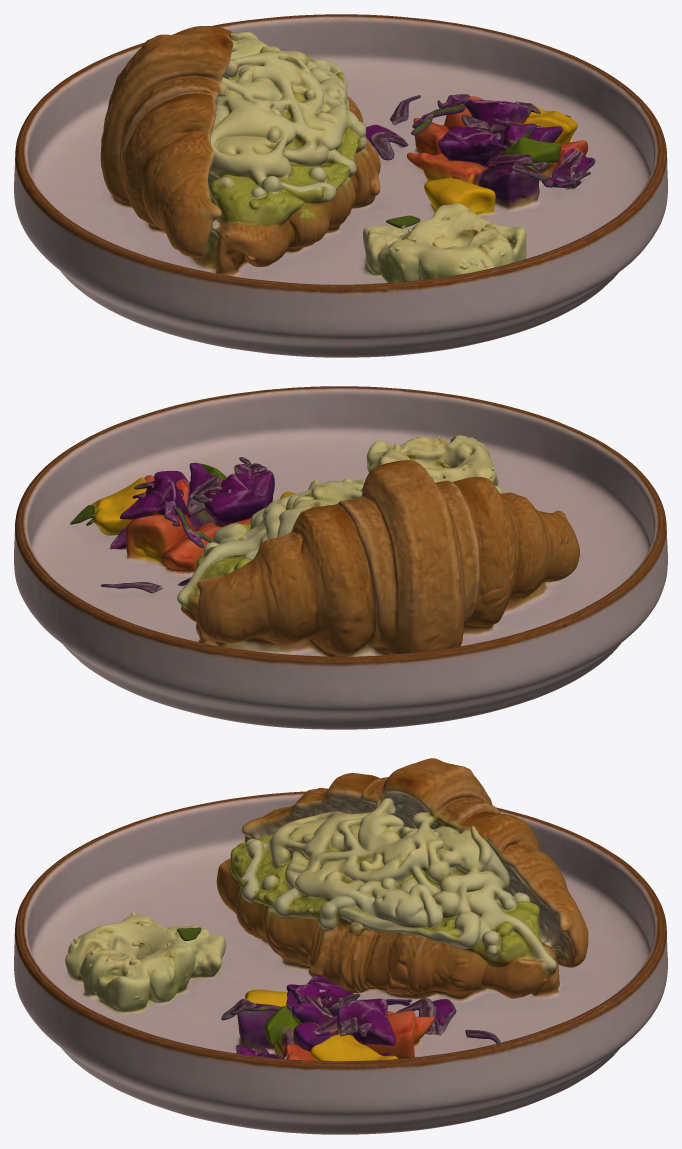
The model's file is croissant_small.glb.
The picture shows the model from 3 angles, top to bottom: view 1: azimuth 30°, elevation 25°; view 2: azimuth 150°, elevation 25°; view 3: azimuth 270°, elevation 25°; orthographic projection.
Visible parts, largest first — view 1: tripo_node_70a2d068-8035-4bf6-989a-b5103a0e01ad; view 2: tripo_node_70a2d068-8035-4bf6-989a-b5103a0e01ad; view 3: tripo_node_70a2d068-8035-4bf6-989a-b5103a0e01ad.
Boxes of the visible parts, x1,y1,x2,y2 form: tripo_node_70a2d068-8035-4bf6-989a-b5103a0e01ad: (14,14,667,357); tripo_node_70a2d068-8035-4bf6-989a-b5103a0e01ad: (14,386,667,729); tripo_node_70a2d068-8035-4bf6-989a-b5103a0e01ad: (14,758,667,1134).
Size of the model in its own units: 32767 by 10689 by 32715.
Materials: 1 (1 with a texture image).
